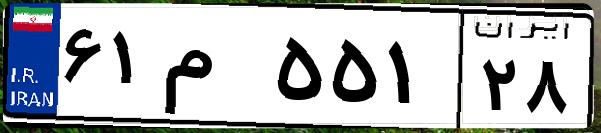1: (385, 28, 445, 110), (110, 28, 158, 98)
2: (475, 38, 525, 113)
5: (270, 28, 330, 110), (330, 28, 385, 110)
6: (57, 26, 110, 100)
8: (525, 38, 570, 115)
م: (158, 20, 270, 120)
